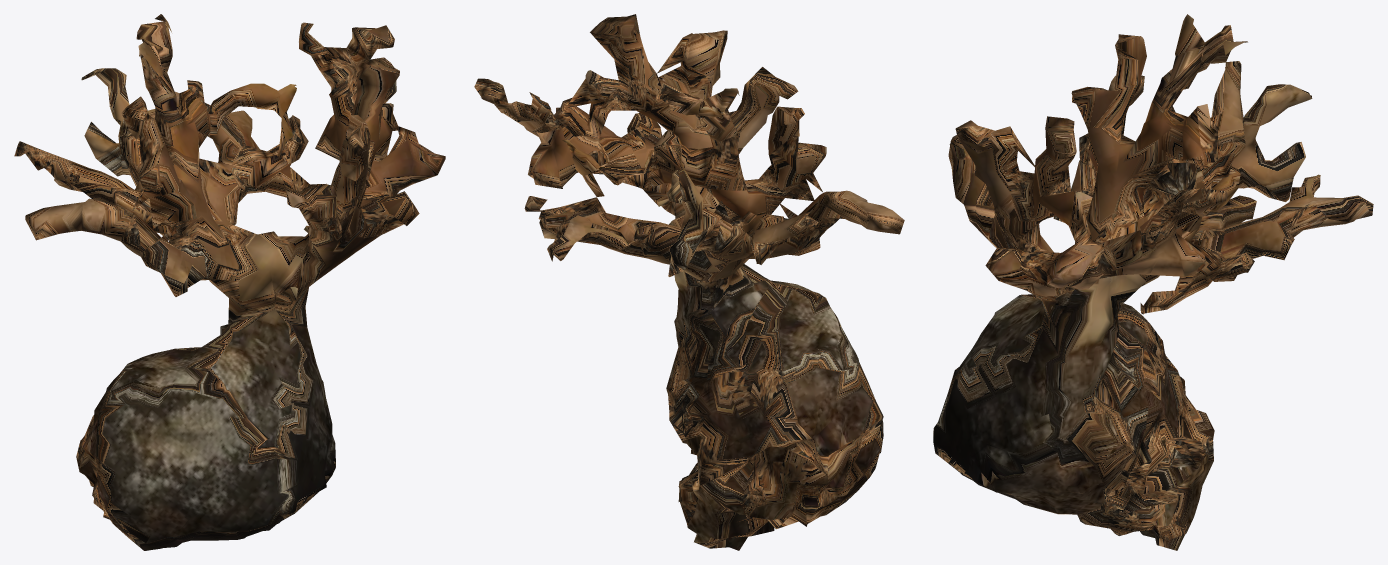
File: hydrozoan-distichopora-borealis.glb
The picture shows the model from 3 angles, left to right: view 1: azimuth 30°, elevation 25°; view 2: azimuth 150°, elevation 25°; view 3: azimuth 270°, elevation 25°; orthographic projection. The views are drawn at different scales.
Bounding box in the file's own units: 0.0584 × 0.0687 × 0.0528.
1 material, 1 textured.
